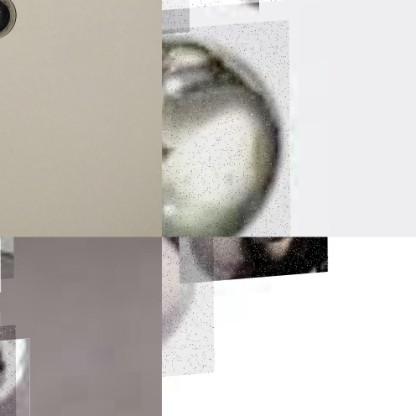ironball: (161, 22, 289, 236), (161, 236, 213, 379), (177, 236, 327, 284), (0, 0, 22, 45)
